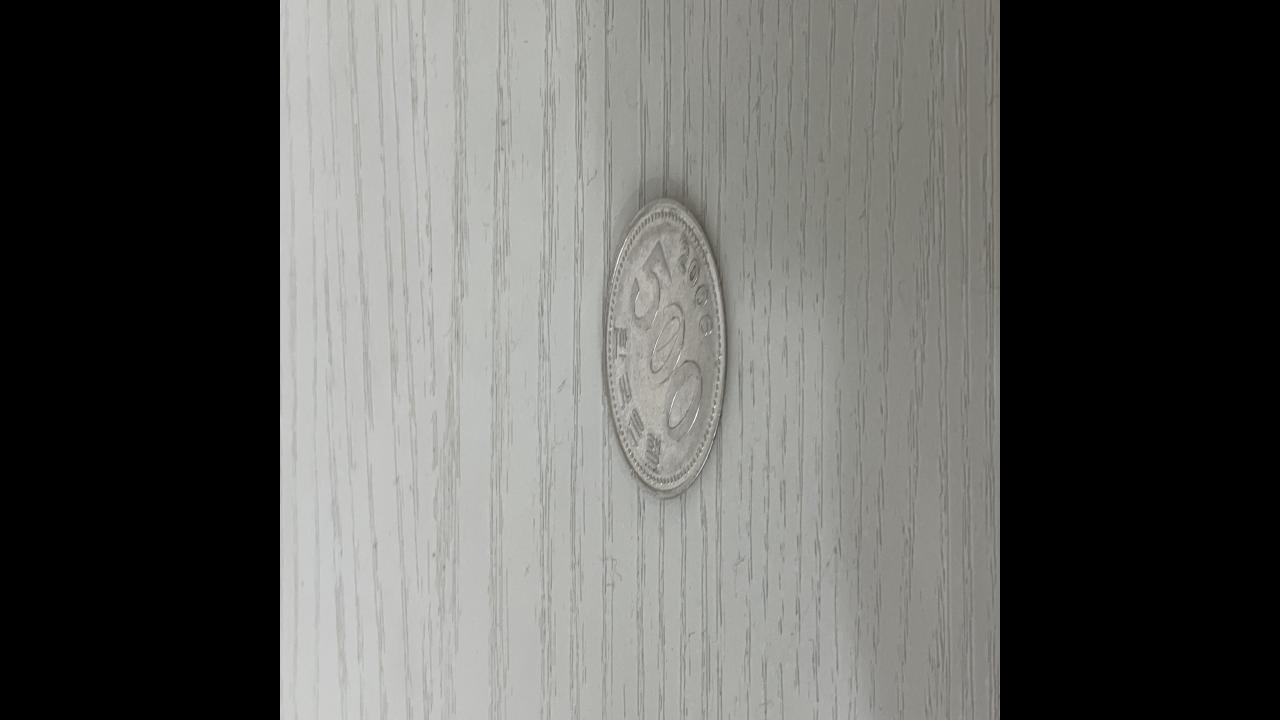coin: (602, 193, 728, 501)
